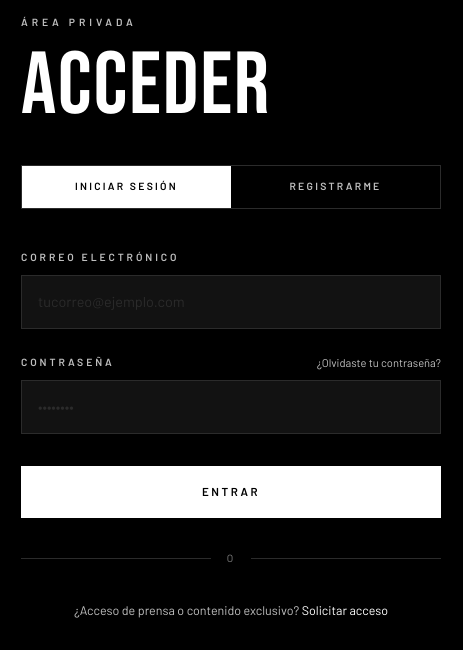
Scenario: Login › muestra error de validación con correo inválido
Type "correo-invalido" into the field labelled "Correo electrónico". click: (231, 302)
box: [21,274,441,329]
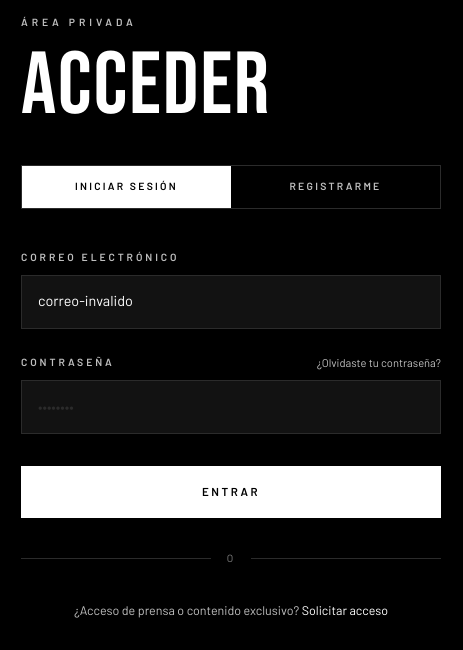
Type "password123" into the password field labelled "Contraseña". click: (231, 407)
box: [21,380,441,434]
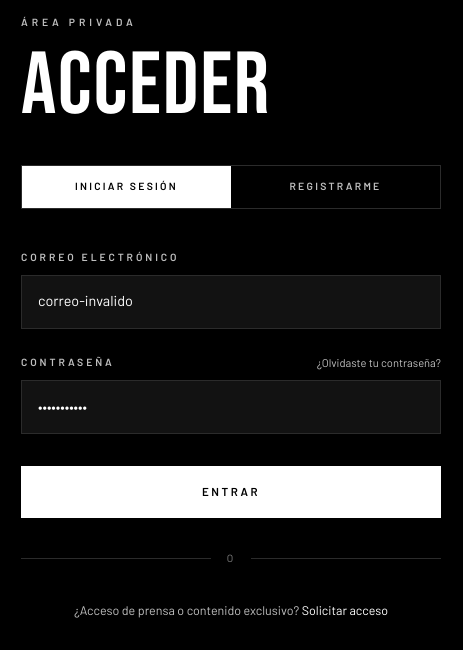
Submit the form "Entrar", box [21,249,441,518]
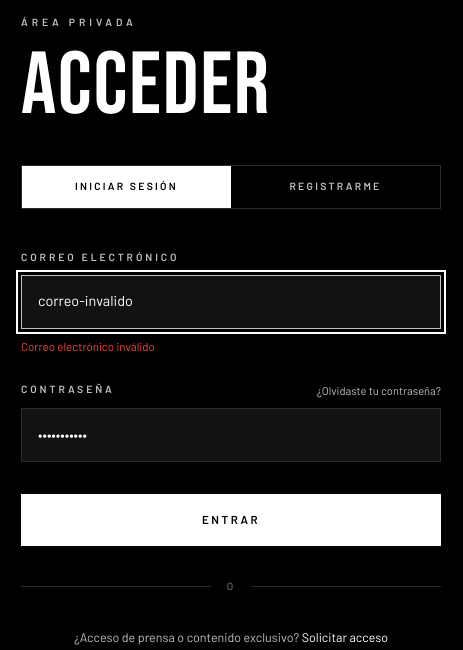
expect the text "Correo electrónico inválido" is shown: met, box [21,339,155,353]
